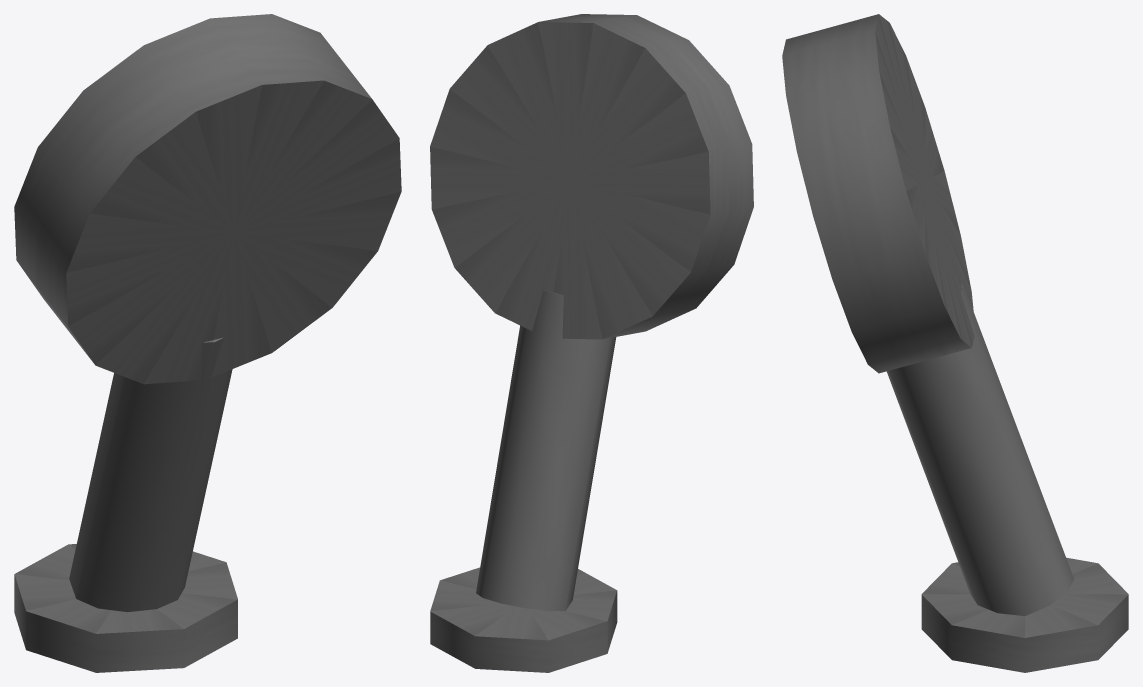
Rendered from mastarmcurve_5x1_c1_down.obj.
3 renders of one model, left to right at view 1: azimuth 30°, elevation 25°; view 2: azimuth 150°, elevation 25°; view 3: azimuth 270°, elevation 25°, orthographic. The views are drawn at different scales.
Visible parts, largest first — view 1: mastarm_5x1_c1_down; view 2: mastarm_5x1_c1_down; view 3: mastarm_5x1_c1_down.
Boxes of the visible parts, x1,y1,x2,y2 form: mastarm_5x1_c1_down: [14, 14, 401, 672]; mastarm_5x1_c1_down: [430, 14, 753, 672]; mastarm_5x1_c1_down: [782, 14, 1128, 672].
Size of the model in its own units: 0.6692 by 1.27 by 0.6689.
